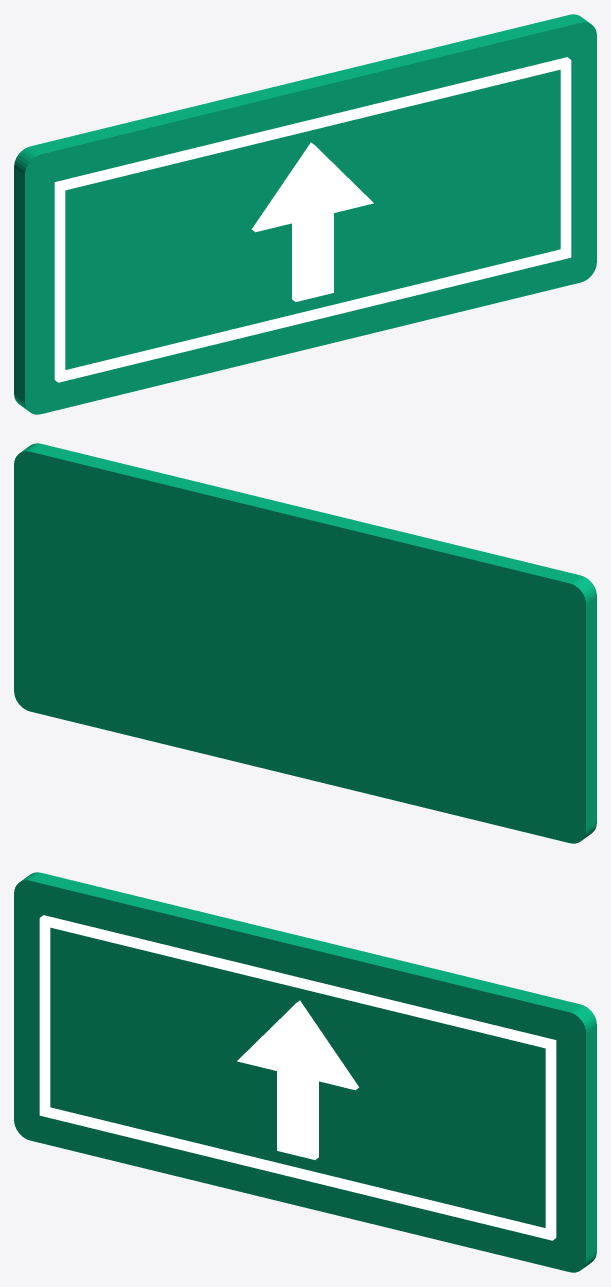
3 views of the same model, one above another, from view 1: azimuth 30°, elevation 25°; view 2: azimuth 150°, elevation 25°; view 3: azimuth 330°, elevation 25° (orthographic).
Visible parts, largest first — view 1: plate, g0, bd0, bd1, bd2, bd3; view 2: plate; view 3: plate, g0, bd0, bd1, bd3, bd2.
Part boxes in pixels (left/top/right/bottom): plate: left=14, top=14, right=596, bottom=414; g0: left=251, top=142, right=373, bottom=301; bd0: left=54, top=57, right=571, bottom=191; bd1: left=54, top=249, right=571, bottom=382; bd2: left=54, top=183, right=65, bottom=375; bd3: left=560, top=67, right=571, bottom=251; plate: left=14, top=443, right=596, bottom=843; plate: left=14, top=872, right=596, bottom=1272; g0: left=237, top=1000, right=359, bottom=1159; bd0: left=39, top=915, right=556, bottom=1049; bd1: left=39, top=1107, right=556, bottom=1240; bd3: left=545, top=1047, right=556, bottom=1233; bd2: left=39, top=925, right=50, bottom=1109.
Bounding box in the file's own units: 0.424 × 0.184 × 0.019.
